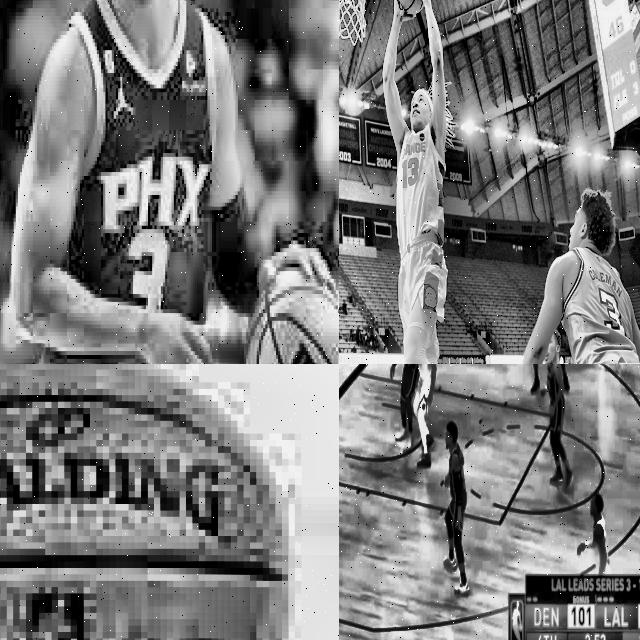Basketball: (247, 267, 339, 364), (399, 0, 424, 14)
